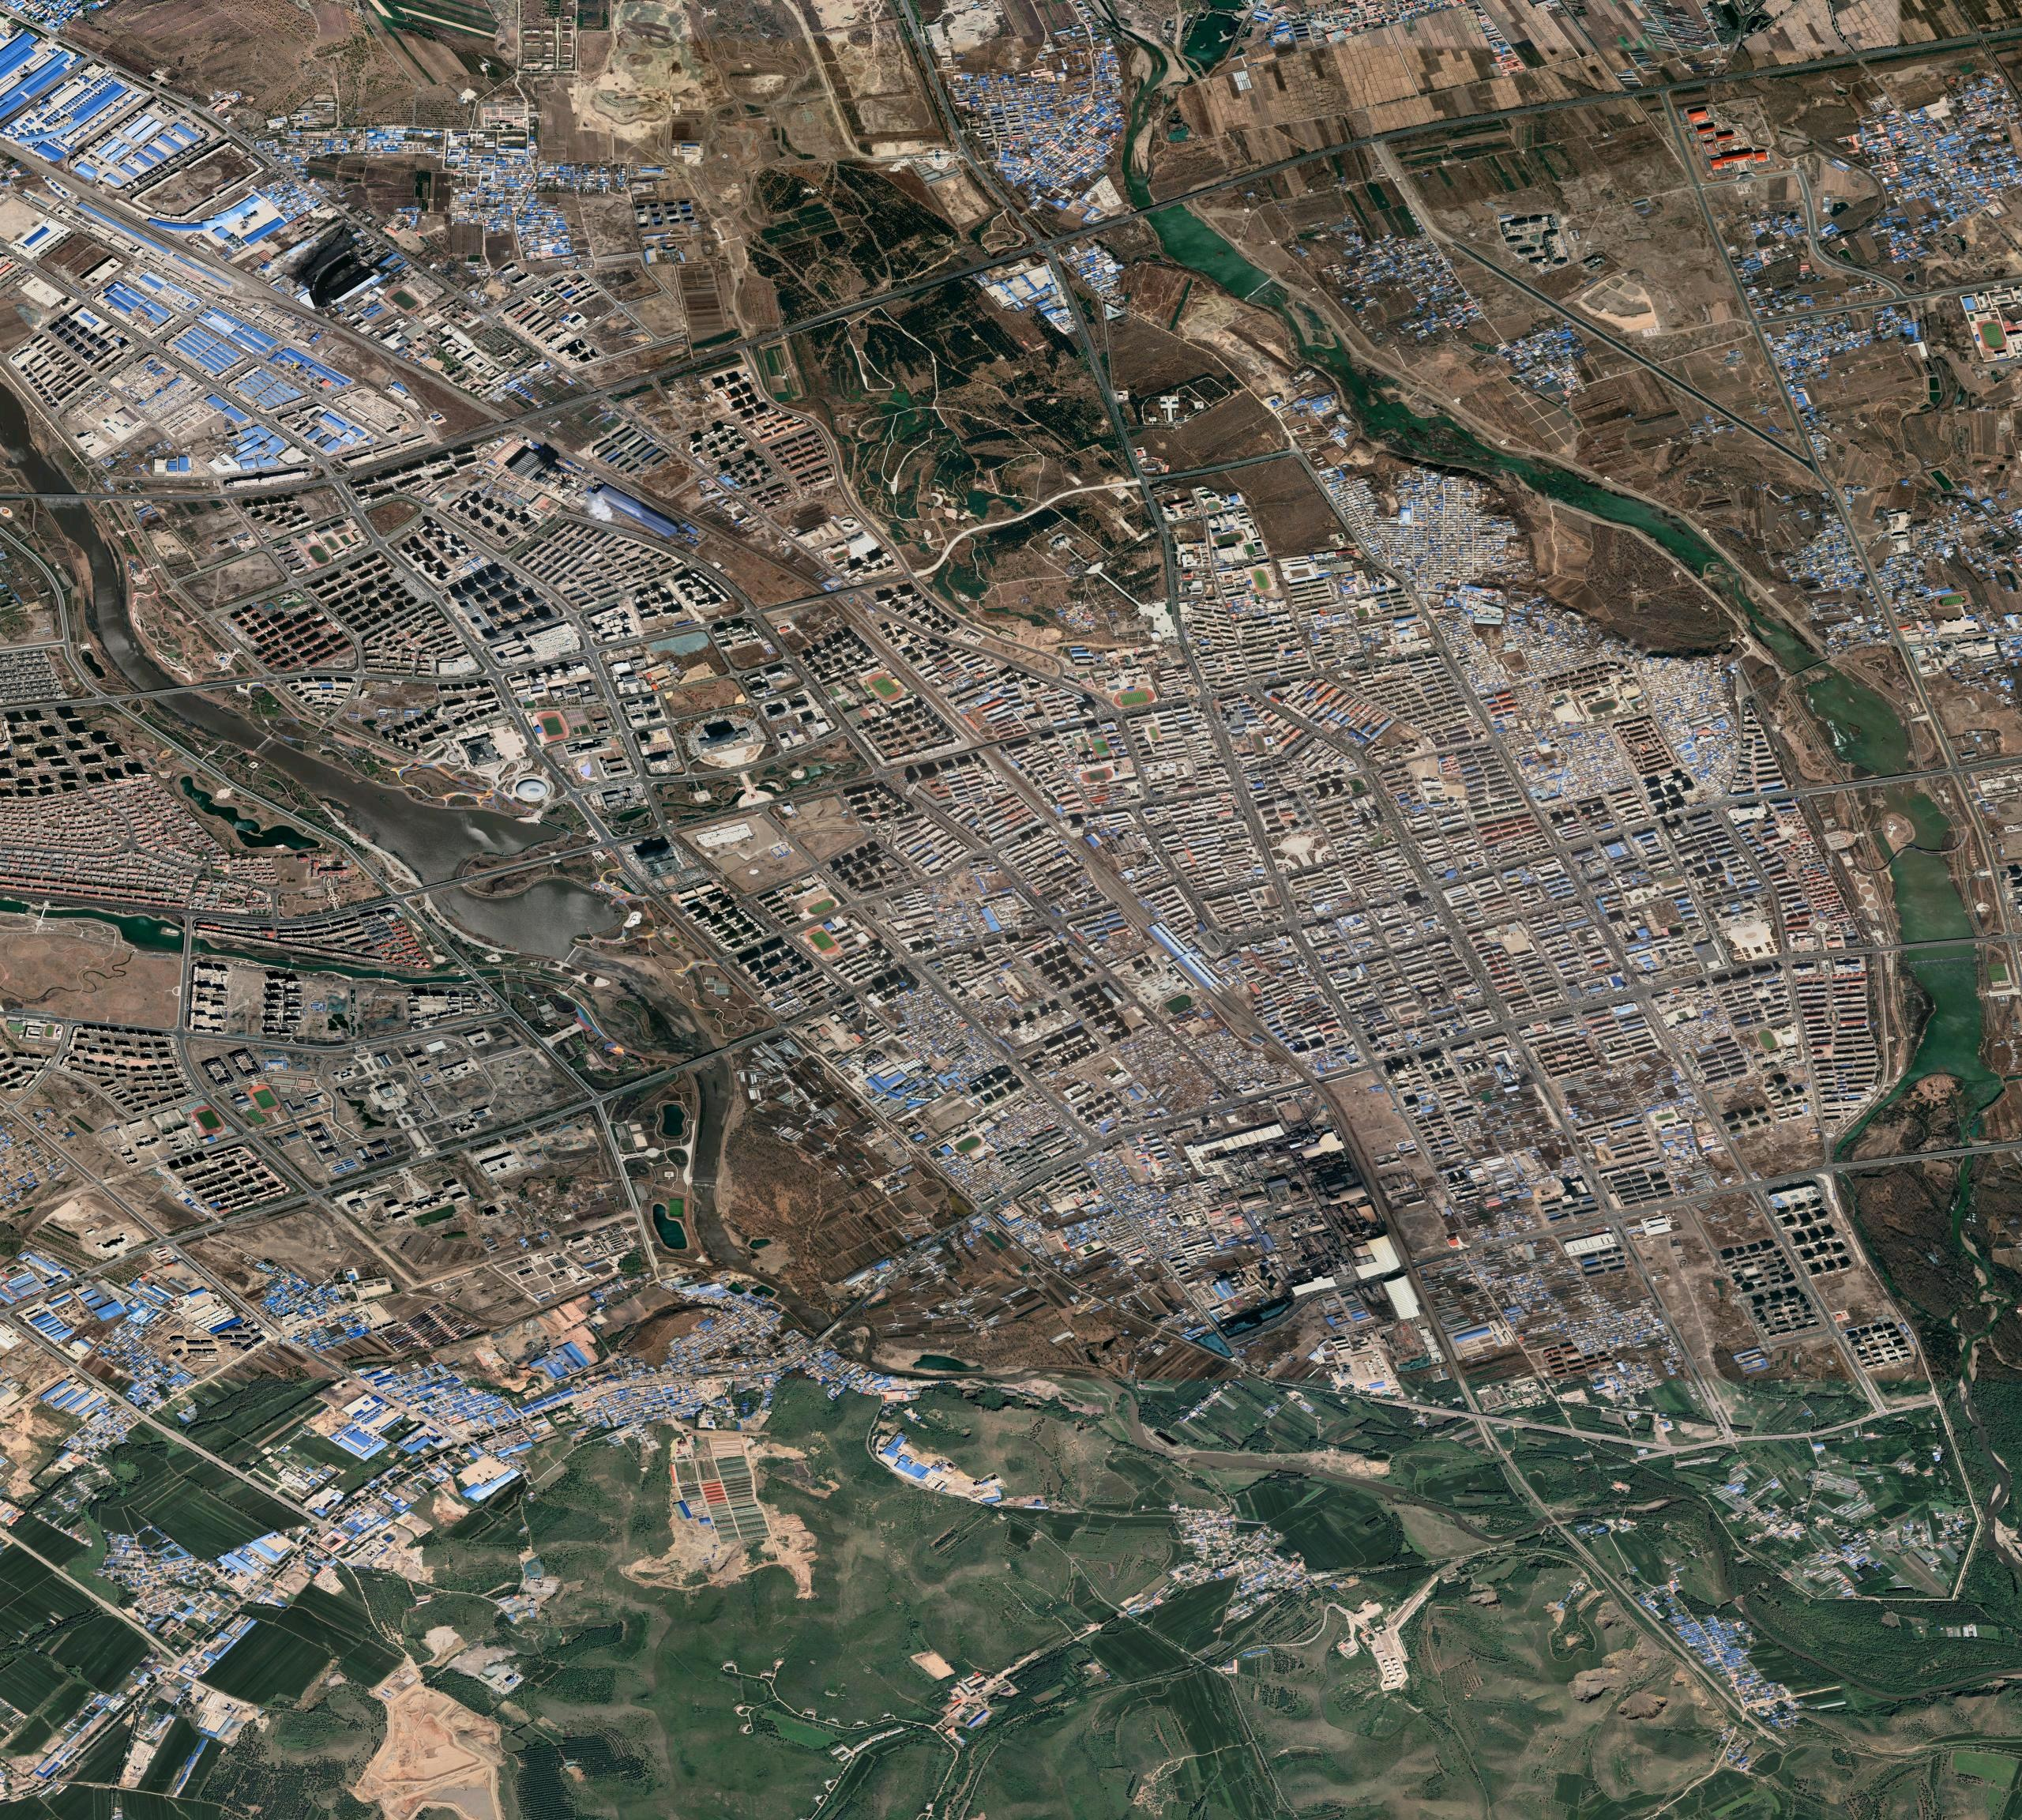coal_fired_power_plant: (1186, 1119, 1402, 1295), (511, 448, 603, 508)
